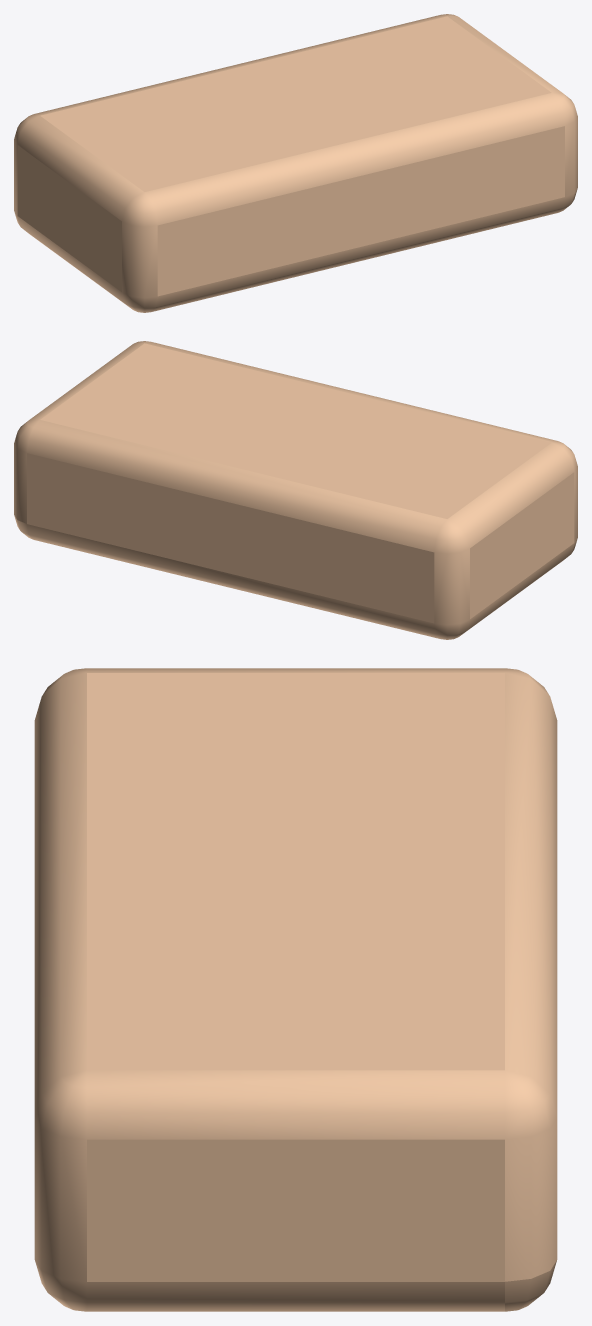
3 renders of one model, top to bottom at view 1: azimuth 30°, elevation 25°; view 2: azimuth 150°, elevation 25°; view 3: azimuth 270°, elevation 25°, orthographic. The views are drawn at different scales.
Parts seen in each view (by area): view 1: blockRoundedLowLong; view 2: blockRoundedLowLong; view 3: blockRoundedLowLong.
Part boxes in pixels (box(x1,y1,x2,y2)): blockRoundedLowLong: box(14, 14, 577, 312); blockRoundedLowLong: box(14, 341, 577, 639); blockRoundedLowLong: box(34, 668, 557, 1311).
Size of the model in its own units: 2 by 0.5 by 1.
